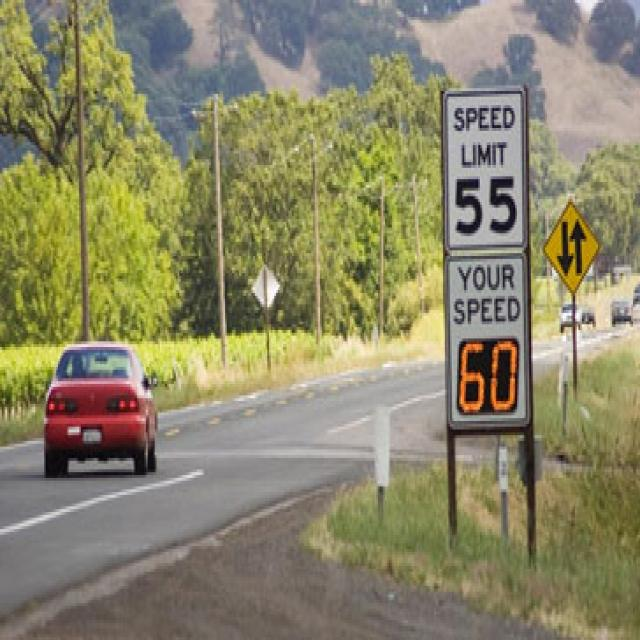Speed Limit Signs: (444, 88, 530, 254)
